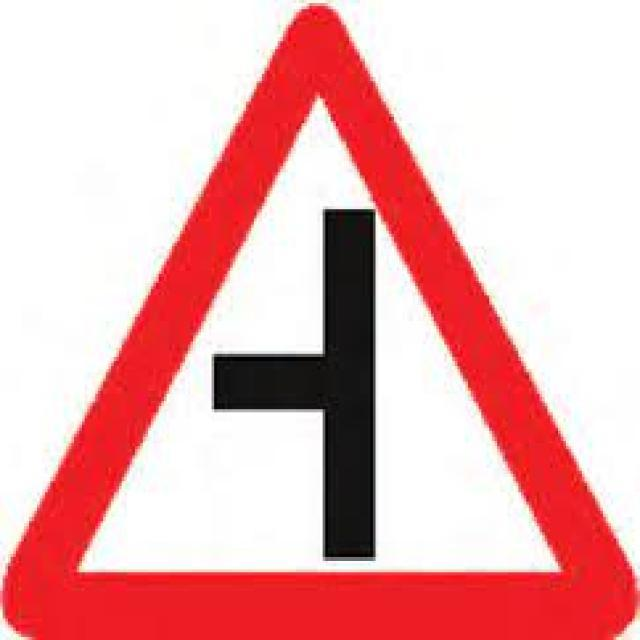side road left: (20, 21, 618, 613)
